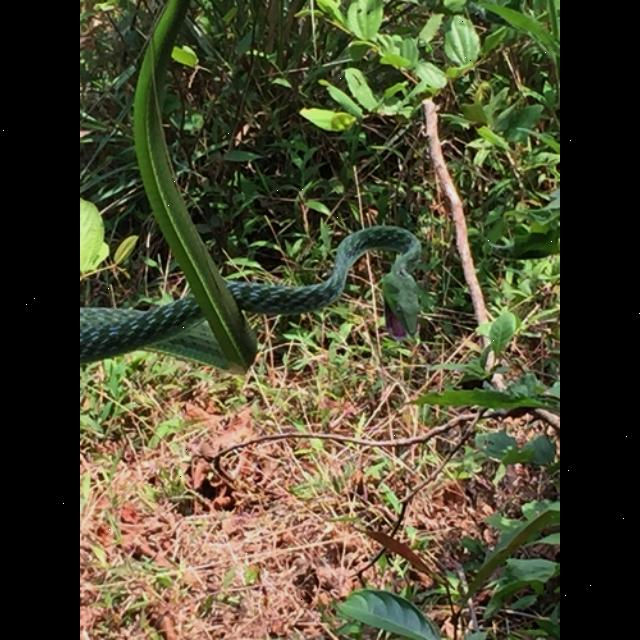snake: (80, 210, 444, 386)
